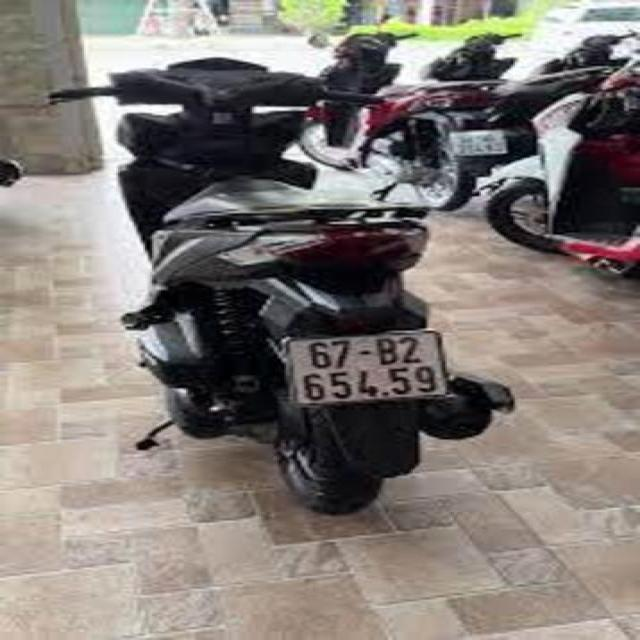motorcycle: (36, 49, 527, 533), (288, 21, 510, 218), (482, 39, 640, 289)
plate: (280, 327, 458, 408), (438, 122, 529, 163)
